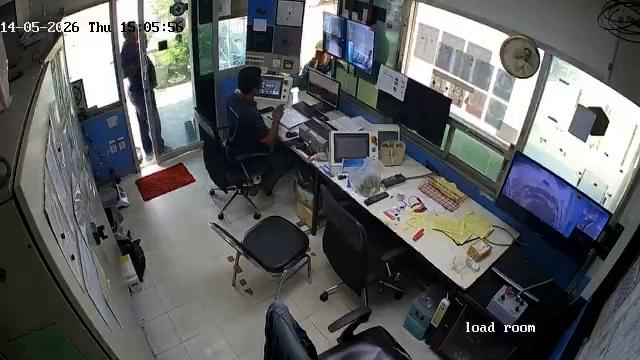Head: (236, 64, 265, 97), (121, 21, 142, 46)
People: (226, 63, 291, 200), (116, 19, 175, 166)
Phone: (258, 106, 275, 114)
